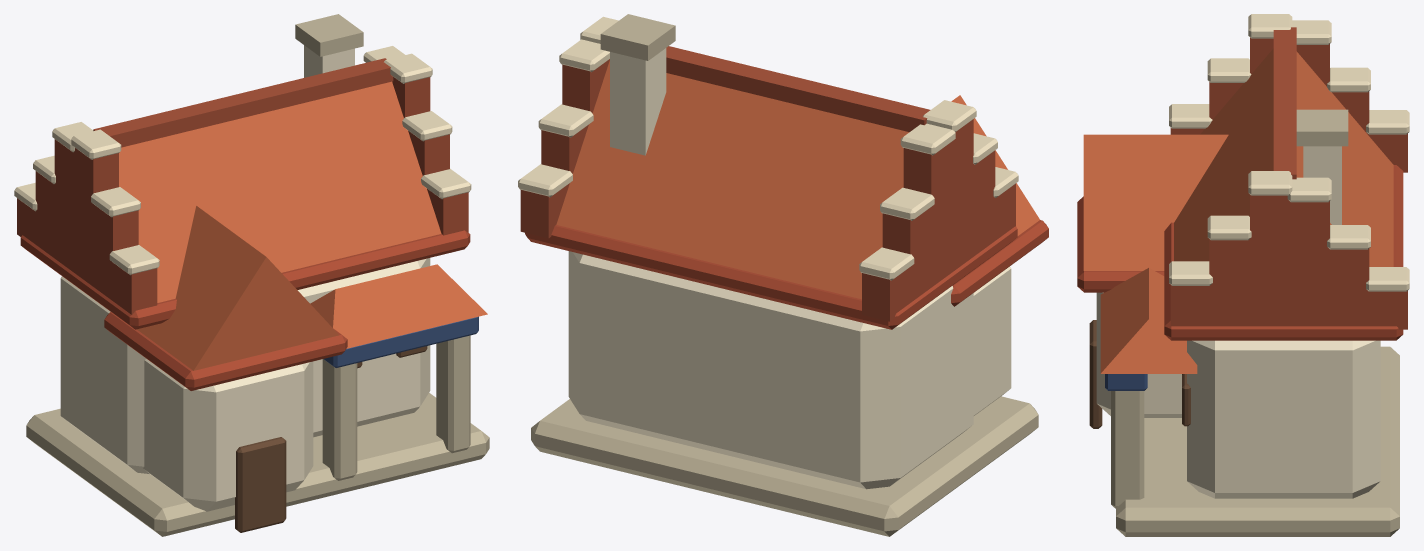
File: ns-great-house.glb
3 renders of one model, left to right at view 1: azimuth 30°, elevation 25°; view 2: azimuth 150°, elevation 25°; view 3: azimuth 270°, elevation 25°, orthographic. The views are drawn at different scales.
Parts seen in each view (by area): view 1: Cube; view 2: Cube; view 3: Cube.
Boxes of the visible parts, left/top/right/bottom form: Cube: left=14, top=14, right=489, bottom=536; Cube: left=518, top=14, right=1048, bottom=536; Cube: left=1077, top=14, right=1409, bottom=536.
Bounding box in the file's own units: 0.635 × 0.6625 × 0.515.
